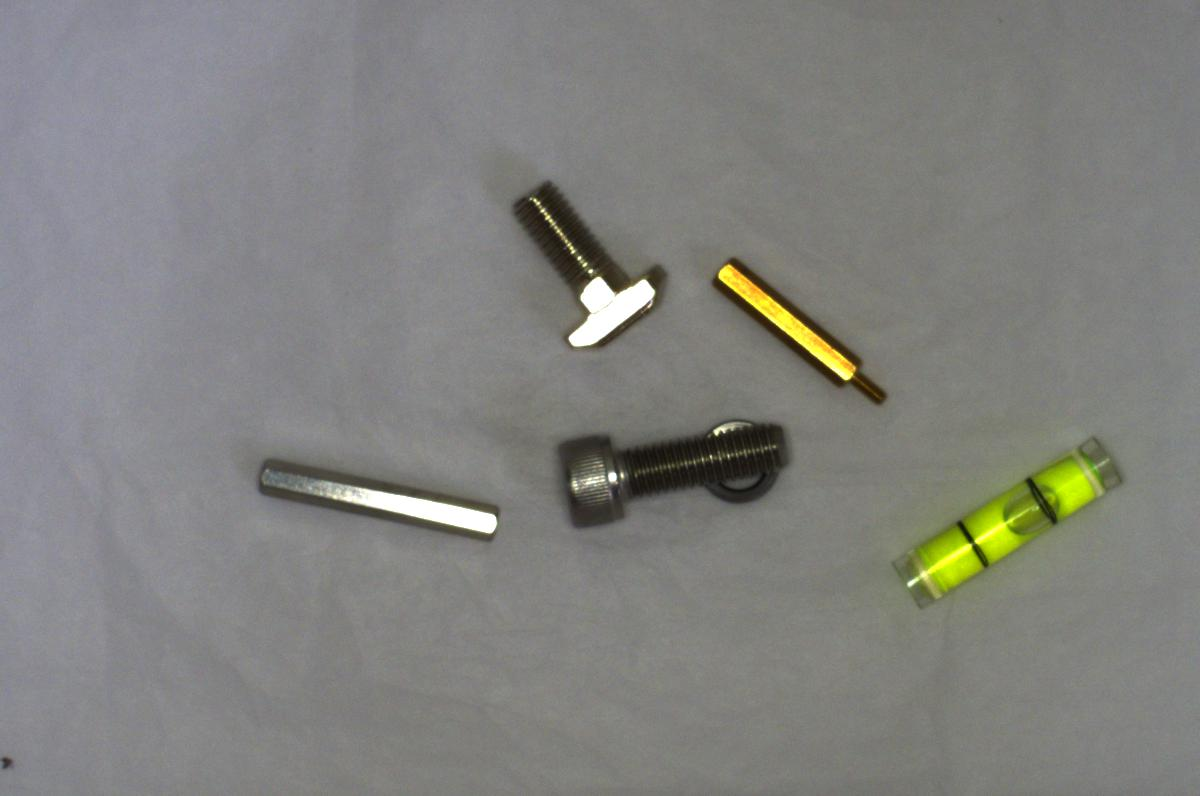Double hexagonal column: (246, 452, 502, 548)
Hexagon pillar: (700, 252, 888, 413)
Hexagon screw: (559, 409, 794, 535)
Horizontal bubble: (878, 426, 1138, 610)
Spring washer: (687, 414, 805, 510)
T-shaped screw: (512, 176, 670, 353)
